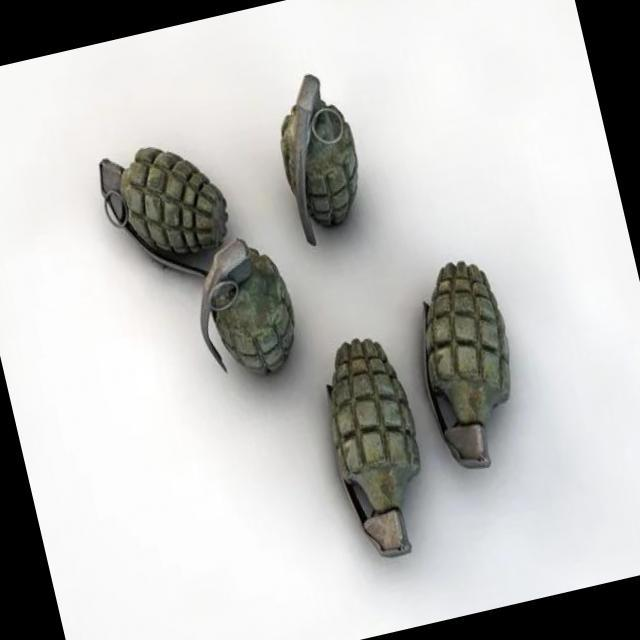grenade: (62, 53, 556, 622)
